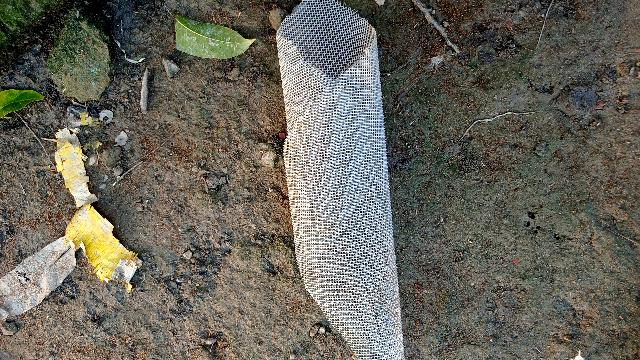hardplastic: (279, 12, 402, 345)
